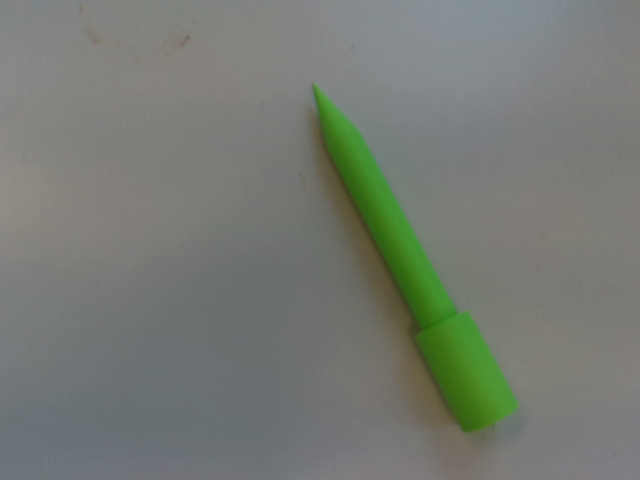Probe: (306, 75, 524, 446)
